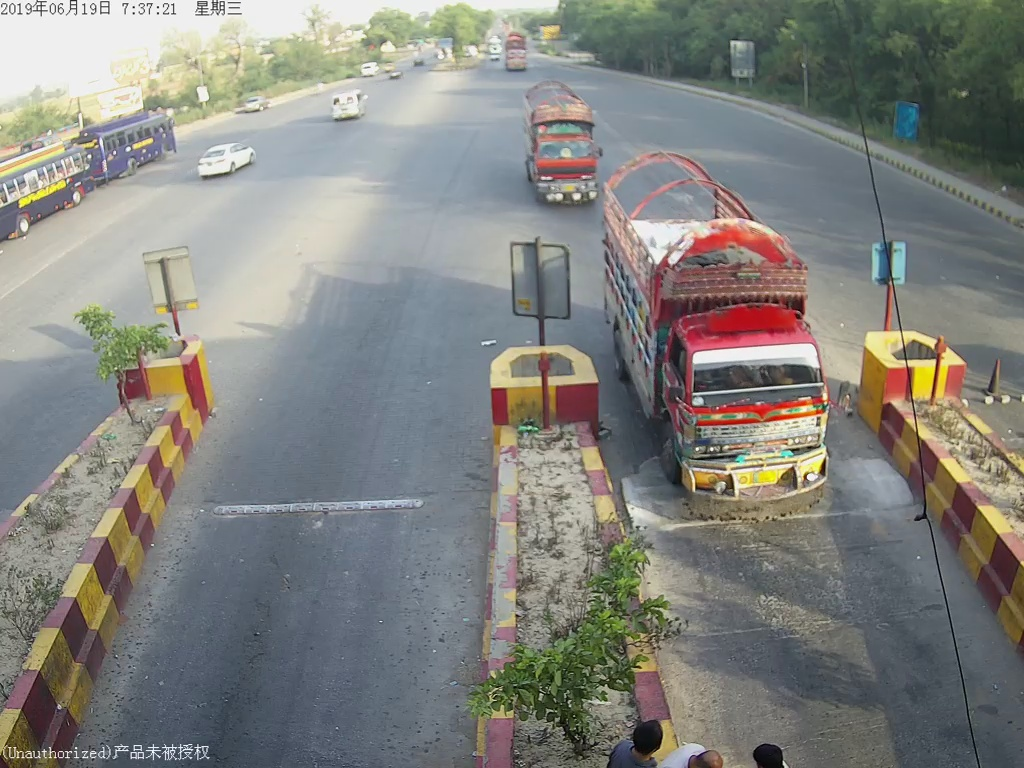Cat-4: (600, 152, 835, 498), (518, 80, 604, 202)
